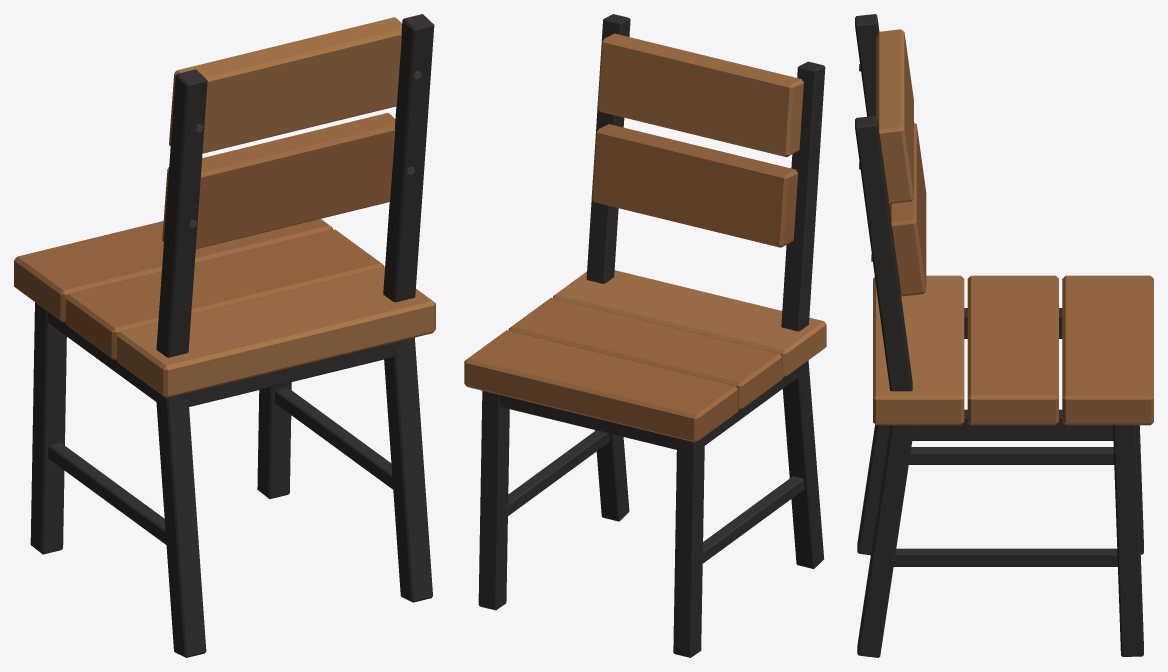
Rendered from seat_cafe-table_v2.glb.
3 renders of one model, left to right at view 1: azimuth 30°, elevation 25°; view 2: azimuth 150°, elevation 25°; view 3: azimuth 270°, elevation 25°, orthographic. The views are drawn at different scales.
Parts seen in each view (by area): view 1: body; view 2: body; view 3: body.
Part boxes in pixels (bbox=[...]): body: bbox=[14, 14, 435, 657]; body: bbox=[464, 14, 826, 657]; body: bbox=[855, 14, 1153, 657].
Size of the model in its own units: 0.44 by 0.8947 by 0.4541.
